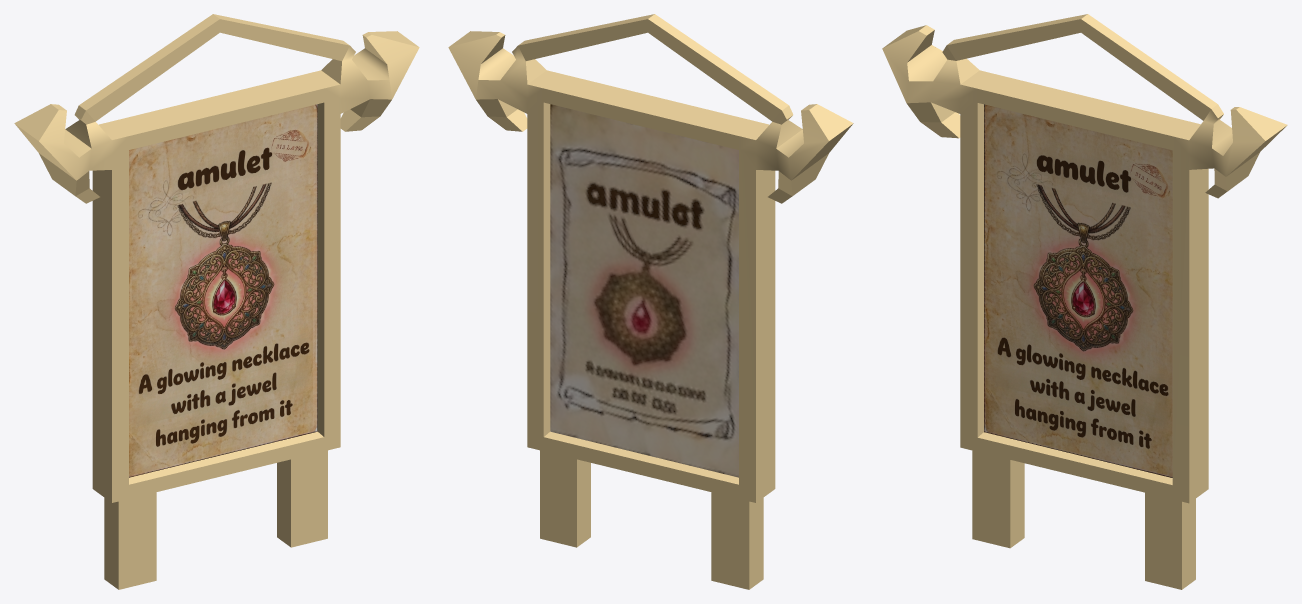
File: amulet.fbx
The picture shows the model from 3 angles, left to right: view 1: azimuth 30°, elevation 25°; view 2: azimuth 150°, elevation 25°; view 3: azimuth 330°, elevation 25°; orthographic projection.
Visible parts, largest first — view 1: amulet; view 2: amulet; view 3: amulet.
Part boxes in pixels (bbox=[...]): amulet: bbox=[14, 14, 419, 589]; amulet: bbox=[448, 14, 853, 589]; amulet: bbox=[882, 14, 1287, 589].
Size of the model in its own units: 6.69 by 9.09 by 1.16.
